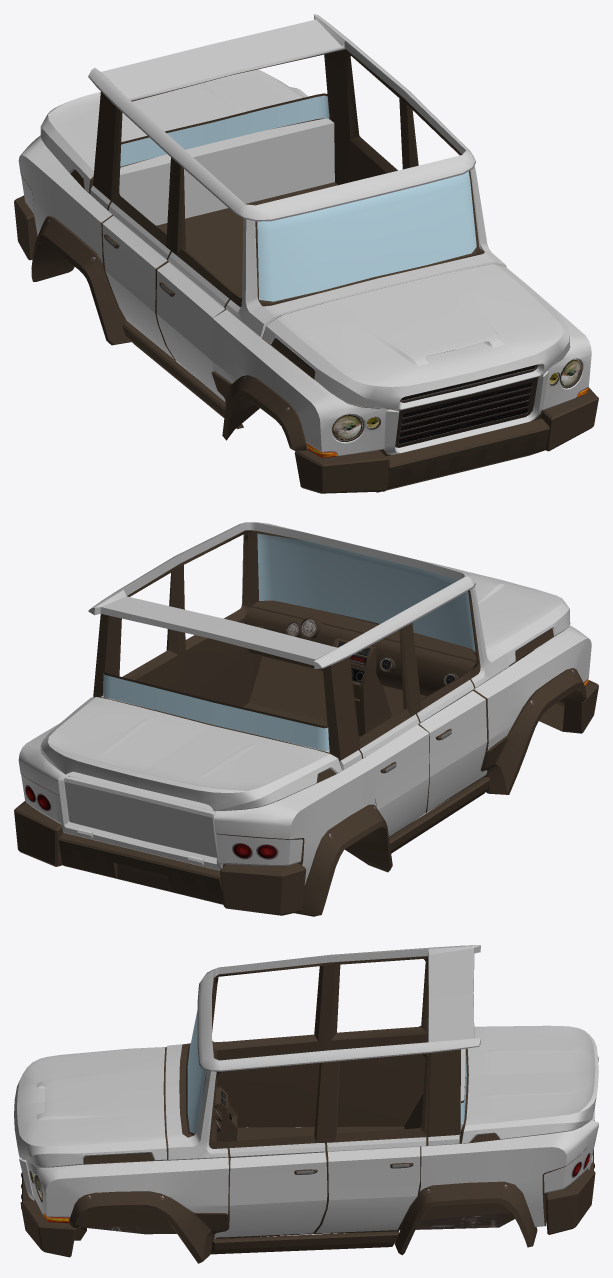
File: Van.fbx
3 renders of one model, top to bottom at view 1: azimuth 30°, elevation 25°; view 2: azimuth 150°, elevation 25°; view 3: azimuth 270°, elevation 25°, orthographic. The views are drawn at different scales.
Parts seen in each view (by area): view 1: node_id106, node_id114, node_id122, node_id116, node_id124, node_id108; view 2: node_id106, node_id114, node_id122, node_id108, node_id110; view 3: node_id106, node_id114, node_id120, node_id122, node_id108.
Boxes of the visible parts, x1,y1,x2,y2 form: node_id106: (18, 14, 591, 455); node_id114: (14, 49, 598, 493); node_id122: (120, 95, 476, 301); node_id116: (395, 364, 538, 447); node_id124: (332, 359, 581, 440); node_id108: (88, 76, 475, 295); node_id106: (18, 522, 591, 884); node_id114: (14, 530, 598, 916); node_id122: (103, 533, 475, 751); node_id108: (25, 583, 475, 859); node_id110: (26, 786, 276, 858); node_id106: (14, 945, 598, 1237); node_id114: (20, 956, 595, 1263); node_id120: (48, 1160, 514, 1234); node_id122: (187, 1010, 466, 1133); node_id108: (197, 983, 590, 1177).
Size of the model in its own units: 0.512 by 0.4124 by 0.9969.
Materials: 14 (13 with a texture image).
